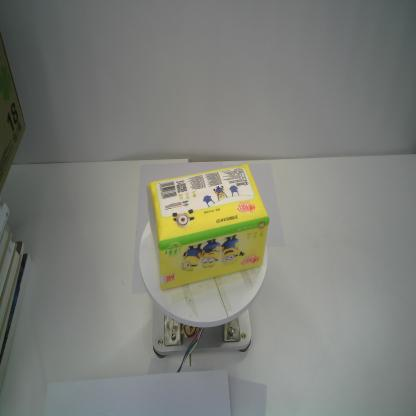Tissue: (146, 161, 270, 293)
